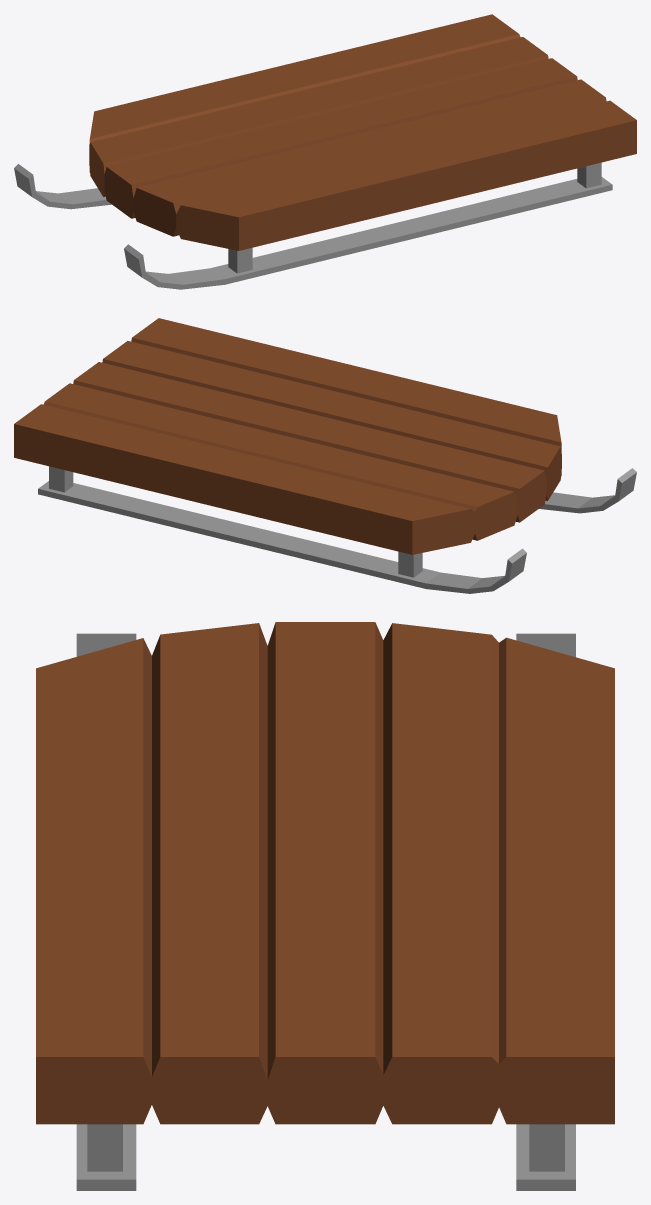
The model's file is sled.fbx.
3 views of the same model, one above another, from view 1: azimuth 30°, elevation 25°; view 2: azimuth 150°, elevation 25°; view 3: azimuth 270°, elevation 25° (orthographic). The views are drawn at different scales.
Parts seen in each view (by area): view 1: Cube; view 2: Cube; view 3: Cube.
Boxes of the visible parts, x1,y1,x2,y2 form: Cube: (14,14,636,289); Cube: (14,318,636,593); Cube: (36,622,614,1190).
Size of the model in its own units: 291 by 42.24 by 150.
